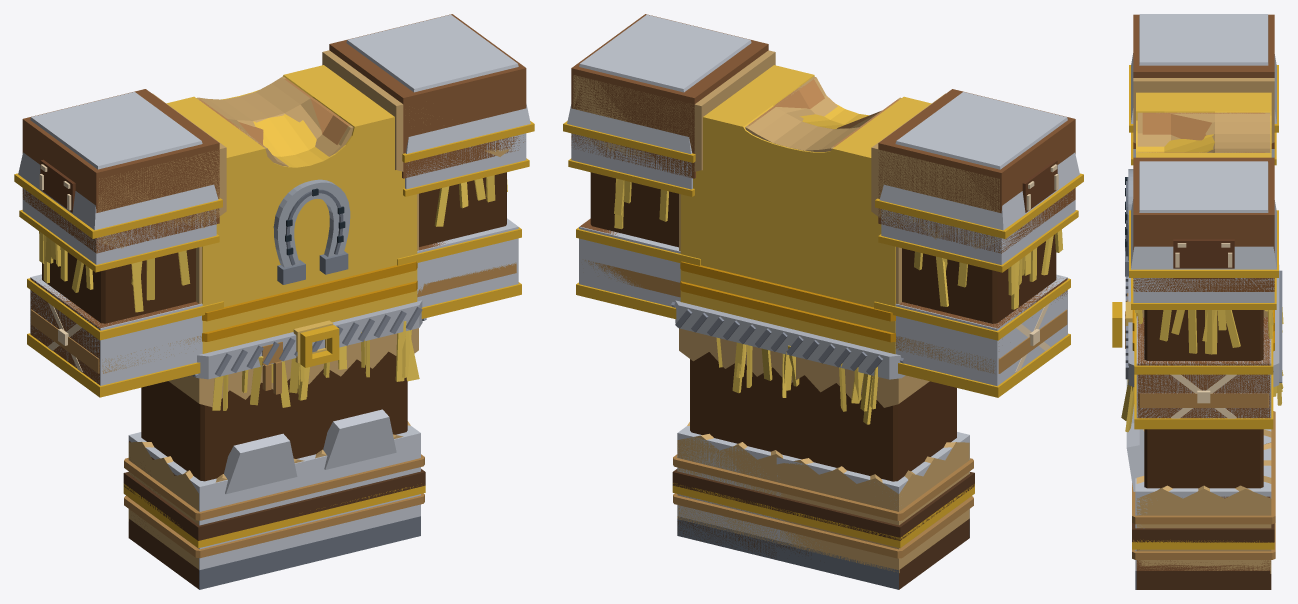
The model's file is w1_armor.fbx.
The picture shows the model from 3 angles, left to right: view 1: azimuth 30°, elevation 25°; view 2: azimuth 150°, elevation 25°; view 3: azimuth 270°, elevation 25°; orthographic projection. The views are drawn at different scales.
Parts seen in each view (by area): view 1: HarvestKnight.Chest, HarvestKnight.PlateR, HarvestKnight.PlateL, FarmhandsGear.ArmHideR, FarmhandsGear.TrousersR, FarmhandsGear.ArmHideL, HarvestKnight.GreaveR, HarvestKnight.TrimR, PatchworkVest.Tunic, HarvestKnight.GreaveL, FarmhandsGear.TrousersL, FarmhandsGear.SleeveR (+28 smaller); view 2: HarvestKnight.Chest, HarvestKnight.PlateR, HarvestKnight.PlateL, FarmhandsGear.TrousersR, FarmhandsGear.ArmHideR, FarmhandsGear.ArmHideL, PatchworkVest.ShinR, PatchworkVest.Tunic, HarvestKnight.TrimR, FarmhandsGear.TrousersL, FarmhandsGear.SleeveR, PatchworkVest.SackR (+26 smaller); view 3: HarvestKnight.PlateL, FarmhandsGear.ArmHideL, HarvestKnight.PlateR, FarmhandsGear.TrousersL, HarvestKnight.TrimL, PatchworkVest.ShinL, FarmhandsGear.StrapL, HarvestKnight.Chest, FarmhandsGear.SleeveL, PatchworkVest.Tunic, PatchworkVest.ShinRopeL, FarmhandsGear.ArmHideR (+15 smaller).
Part boxes in pixels (<box>): HarvestKnight.Chest: <box>166,65,417,353</box>; HarvestKnight.PlateR: <box>18,92,218,385</box>; HarvestKnight.PlateL: <box>346,14,530,307</box>; FarmhandsGear.ArmHideR: <box>22,89,219,384</box>; FarmhandsGear.TrousersR: <box>141,378,307,481</box>; FarmhandsGear.ArmHideL: <box>329,14,526,250</box>; HarvestKnight.GreaveR: <box>128,432,321,570</box>; HarvestKnight.TrimR: <box>14,173,223,397</box>; PatchworkVest.Tunic: <box>168,76,418,407</box>; HarvestKnight.GreaveL: <box>297,409,420,545</box>; FarmhandsGear.TrousersL: <box>304,351,407,456</box>; FarmhandsGear.SleeveR: <box>42,247,195,323</box>; HarvestKnight.Chest: <box>680,65,931,353</box>; HarvestKnight.PlateR: <box>879,92,1079,386</box>; HarvestKnight.PlateL: <box>567,14,751,306</box>; FarmhandsGear.TrousersR: <box>793,375,956,481</box>; FarmhandsGear.ArmHideR: <box>878,89,1075,328</box>; FarmhandsGear.ArmHideL: <box>571,14,768,235</box>; PatchworkVest.ShinR: <box>776,442,969,572</box>; PatchworkVest.Tunic: <box>679,76,929,407</box>; HarvestKnight.TrimR: <box>874,173,1083,397</box>; FarmhandsGear.TrousersL: <box>690,352,793,457</box>; FarmhandsGear.SleeveR: <box>902,234,1056,323</box>; PatchworkVest.SackR: <box>871,93,999,248</box>; HarvestKnight.PlateL: <box>1131,161,1276,418</box>; FarmhandsGear.ArmHideL: <box>1133,157,1274,418</box>; HarvestKnight.PlateR: <box>1131,14,1276,157</box>; FarmhandsGear.TrousersL: <box>1144,429,1263,488</box>; HarvestKnight.TrimL: <box>1129,210,1278,429</box>; PatchworkVest.ShinL: <box>1136,442,1271,573</box>; FarmhandsGear.StrapL: <box>1132,523,1274,589</box>; HarvestKnight.Chest: <box>1136,92,1271,318</box>; FarmhandsGear.SleeveL: <box>1144,310,1263,360</box>; PatchworkVest.Tunic: <box>1137,112,1270,317</box>; PatchworkVest.ShinRopeL: <box>1132,456,1275,559</box>; FarmhandsGear.ArmHideR: <box>1133,14,1274,148</box>.
Bounding box in the file's own units: 4.45 × 4.3 × 1.56.
